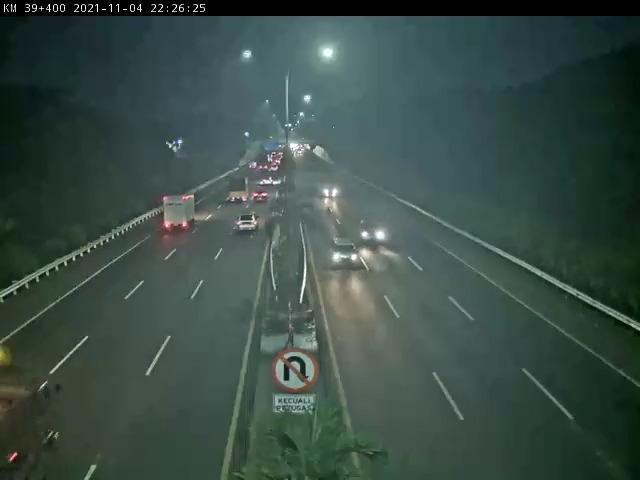car: (330, 236, 361, 266), (360, 220, 387, 247), (238, 212, 261, 231), (321, 182, 341, 200), (255, 191, 269, 204), (263, 175, 275, 185)
truck: (1, 343, 71, 480), (164, 195, 195, 232), (228, 176, 250, 203)
